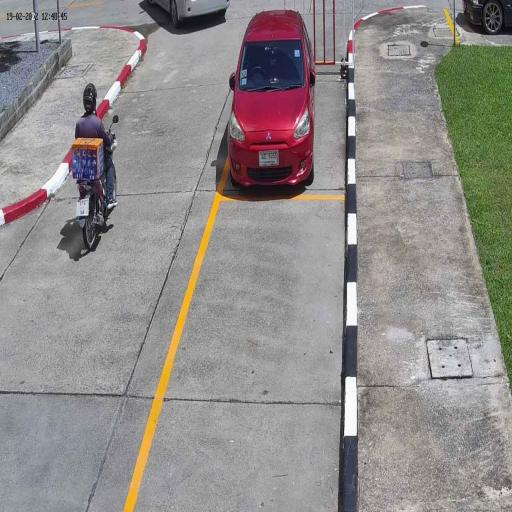car: (228, 10, 314, 189)
motorcycle: (75, 131, 117, 249)
